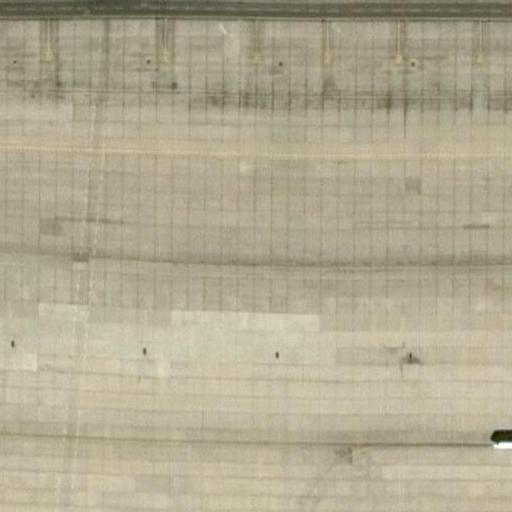Aircraft: (480, 405, 512, 462)
